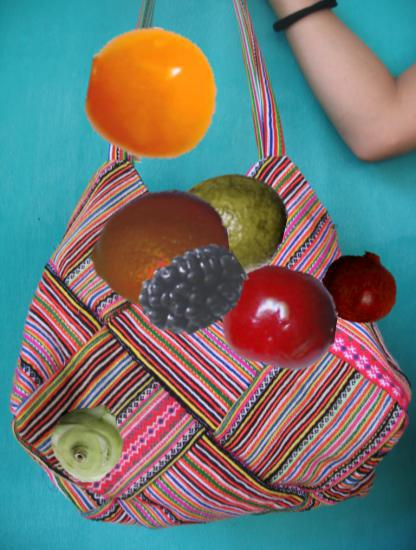Cherry: (221, 259, 337, 375)
Guava: (172, 166, 286, 280)
Huckleberry: (134, 64, 210, 140)
Kohlrabi: (51, 402, 129, 480)
Mulberry: (138, 237, 248, 347)
Physalis: (83, 27, 221, 165)
Pomegranate: (322, 249, 399, 326)
Tangelo: (89, 180, 229, 320)
